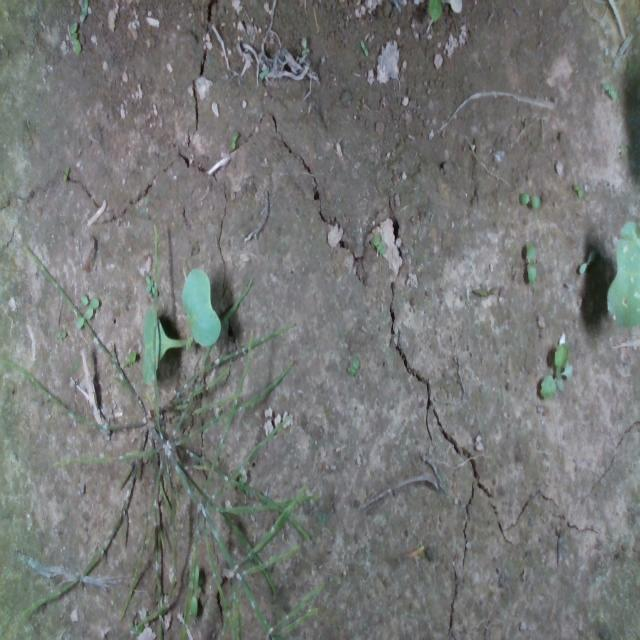weed: (538, 340, 574, 401), (524, 240, 537, 284), (577, 246, 596, 276), (68, 22, 82, 54), (518, 191, 540, 211), (371, 231, 387, 254), (601, 79, 617, 101), (346, 356, 360, 376), (229, 127, 239, 150), (572, 182, 584, 199), (359, 37, 369, 57)
